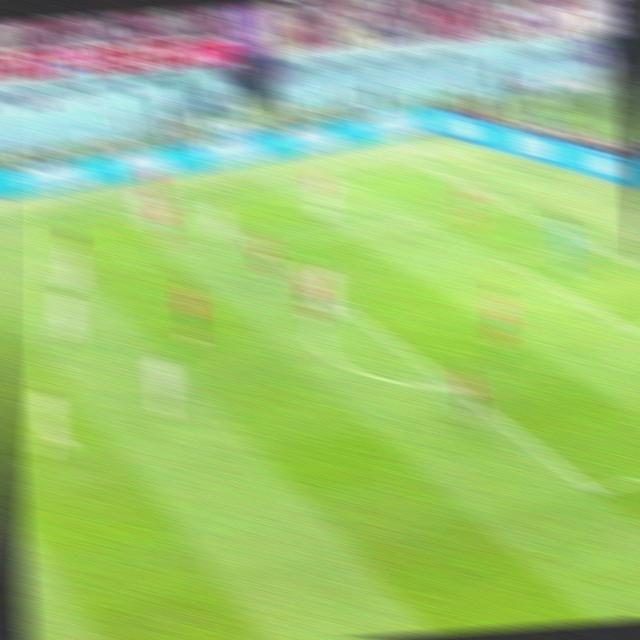bigarea_bottom_inner: (576, 472, 610, 503)
bigarea_top_inner: (253, 236, 277, 258)
bigarea_top_outter: (488, 192, 516, 212)
bottom_arc_area_intersection: (439, 374, 467, 399)
corner: (398, 153, 427, 170)
smallarea_top_inner: (492, 248, 523, 272)
smallarea_top_outter: (575, 233, 602, 256)
top_arc_area_intersection: (326, 290, 354, 314)
